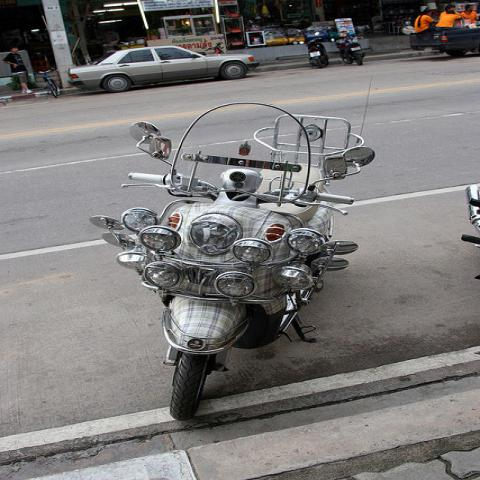car: (70, 43, 261, 94)
motorcycle: (91, 100, 381, 420), (460, 182, 479, 282), (330, 35, 366, 66), (306, 38, 330, 69)
truck: (408, 17, 479, 57)
